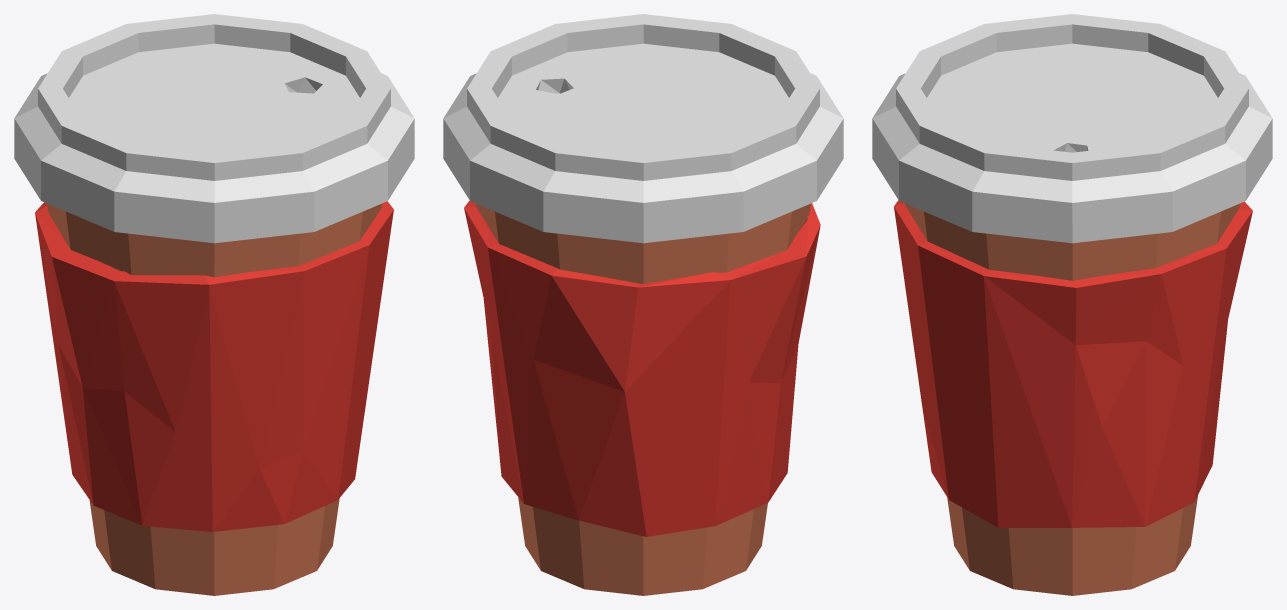
The model's file is Cup_03.fbx.
The picture shows the model from 3 angles, left to right: view 1: azimuth 30°, elevation 25°; view 2: azimuth 150°, elevation 25°; view 3: azimuth 270°, elevation 25°; orthographic projection.
Parts seen in each view (by area): view 1: Cup_03; view 2: Cup_03; view 3: Cup_03.
Part boxes in pixels (x1,y1,x2,y2): Cup_03: (14, 14, 414, 595); Cup_03: (443, 14, 843, 595); Cup_03: (872, 14, 1272, 595).
Size of the model in its own units: 12.66 by 15.96 by 12.66.
